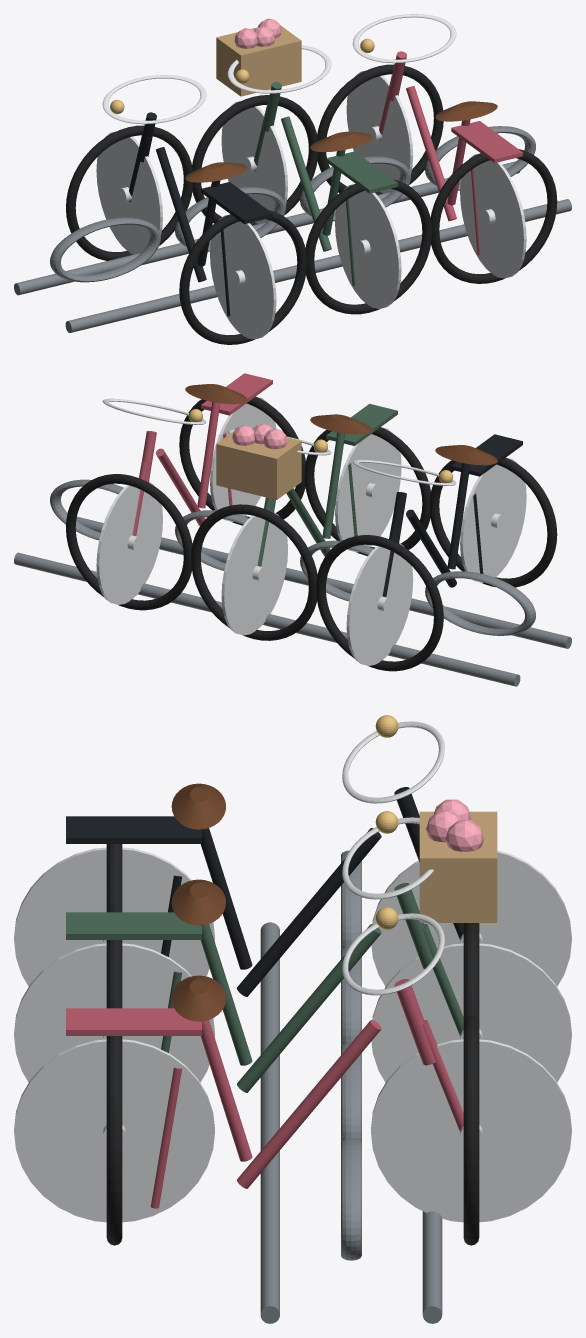
The model's file is bike-rack-with-bikes.glb.
3 renders of one model, top to bottom at view 1: azimuth 30°, elevation 25°; view 2: azimuth 150°, elevation 25°; view 3: azimuth 270°, elevation 25°, orthographic. The views are drawn at different scales.
Parts seen in each view (by area): view 1: Cylinder.020, Cylinder.011, Cylinder.002, Cylinder.004, Cylinder.013, Cylinder.022, Cube.002, Cylinder, Torus.004, Torus.010, Torus.007, Torus.005 (+25 smaller); view 2: Cylinder.022, Cylinder.004, Cylinder.013, Cylinder.002, Cylinder.011, Cube.002, Cylinder.001, Torus.005, Torus.008, Torus.011, Cylinder, Torus.004 (+24 smaller); view 3: Cylinder.022, Cylinder.020, Cylinder.013, Cylinder.011, Cylinder.002, Cylinder.004, Cube.002, Cylinder, Torus.011, Cube.003, Cube, Cube.001 (+28 smaller).
Boxes of the visible parts, box(x1,y1,x2,y2) form: Cylinder.020: box(460, 154, 526, 278); Cylinder.011: box(335, 184, 401, 308); Cylinder.002: box(210, 215, 276, 339); Cylinder.004: box(96, 131, 162, 254); Cylinder.013: box(221, 101, 287, 223); Cylinder.022: box(346, 70, 413, 193); Cube.002: box(216, 24, 301, 96); Cylinder: box(65, 199, 571, 332); Torus.004: box(179, 210, 306, 344); Torus.010: box(430, 149, 557, 283); Torus.007: box(305, 179, 431, 314); Torus.005: box(66, 125, 193, 260); Cylinder.022: box(96, 481, 162, 604); Cylinder.004: box(346, 542, 413, 665); Cylinder.013: box(221, 512, 287, 635); Cylinder.002: box(460, 458, 526, 582); Cylinder.011: box(335, 427, 401, 552); Cube.002: box(216, 431, 301, 499); Cylinder.001: box(14, 552, 520, 686); Torus.005: box(316, 535, 443, 671); Torus.008: box(191, 504, 317, 640); Torus.011: box(66, 474, 192, 610); Cylinder: box(76, 516, 571, 648); Torus.004: box(429, 458, 557, 587); Cylinder.022: box(371, 1039, 571, 1222); Cylinder.020: box(14, 1039, 214, 1222); Cylinder.013: box(371, 943, 571, 1082); Cylinder.011: box(14, 943, 214, 1082); Cylinder.002: box(14, 847, 214, 986); Cylinder.004: box(371, 850, 571, 986); Cube.002: box(419, 811, 497, 922); Cylinder: box(260, 922, 279, 1323); Torus.011: box(463, 1016, 479, 1245); Cube.003: box(66, 1008, 201, 1035); Cube: box(66, 816, 201, 843); Cube.001: box(66, 912, 201, 939).
Size of the model in its own units: 2.8 by 1.11 by 1.72.
